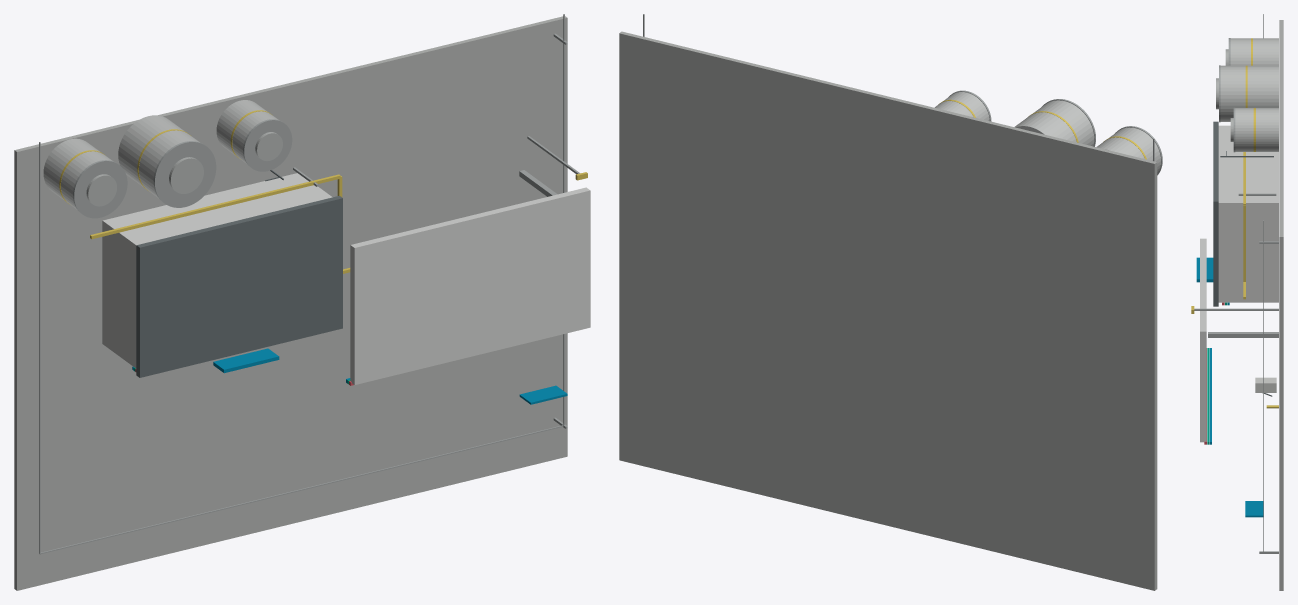
File: pertamina_apt_pranoto.glb
3 views of the same model, side by side, from view 1: azimuth 30°, elevation 25°; view 2: azimuth 150°, elevation 25°; view 3: azimuth 270°, elevation 25° (orthographic). The views are drawn at different scales.
Parts seen in each view (by area): view 1: Concrete facility pad, Fueling canopy roof, Building roof slab, Operations building, Fuel storage tank 2, Tank top rim 2, Fuel storage tank 1, Fuel storage tank 3, Tank top rim 1, Tank top rim 3, Main fuel pipeline, Fence rail (+4 smaller); view 2: Concrete facility pad, Fuel storage tank 2, Fuel storage tank 1, Fuel storage tank 3; view 3: Operations building, Concrete facility pad, Fuel storage tank 2, Fuel storage tank 3, Fueling canopy roof, Fuel storage tank 1, Building roof slab, Canopy column, Fuel service cabinet, Right fence rail, Safety information sign, Pertamina style signboard (+5 smaller).
Boxes of the visible parts, x1,y1,x2,y2 form: Concrete facility pad: (14, 16, 567, 590); Fueling canopy roof: (350, 187, 590, 384); Building roof slab: (136, 195, 342, 377); Operations building: (102, 173, 332, 368); Fuel storage tank 2: (118, 115, 199, 198); Tank top rim 2: (153, 141, 216, 207); Fuel storage tank 1: (43, 138, 112, 209); Fuel storage tank 3: (216, 100, 278, 163); Tank top rim 1: (73, 160, 127, 218); Tank top rim 3: (243, 119, 292, 171); Main fuel pipeline: (90, 174, 340, 239); Fence rail: (40, 425, 563, 554); Concrete facility pad: (619, 31, 1157, 590); Fuel storage tank 2: (1014, 100, 1094, 146); Fuel storage tank 1: (1096, 127, 1160, 173); Fuel storage tank 3: (935, 92, 989, 120); Operations building: (1218, 125, 1278, 302); Concrete facility pad: (1279, 20, 1283, 590); Fuel storage tank 2: (1220, 65, 1278, 121); Fuel storage tank 3: (1235, 108, 1278, 151); Fueling canopy roof: (1200, 238, 1206, 442); Fuel storage tank 1: (1230, 38, 1278, 65); Building roof slab: (1213, 121, 1218, 306); Canopy column: (1208, 332, 1278, 337); Fuel service cabinet: (1255, 377, 1276, 392); Right fence rail: (1263, 220, 1263, 551); Safety information sign: (1245, 501, 1263, 517); Pertamina style signboard: (1196, 257, 1213, 282).
Bounding box in the file's own units: 42 × 33 × 7.53.
